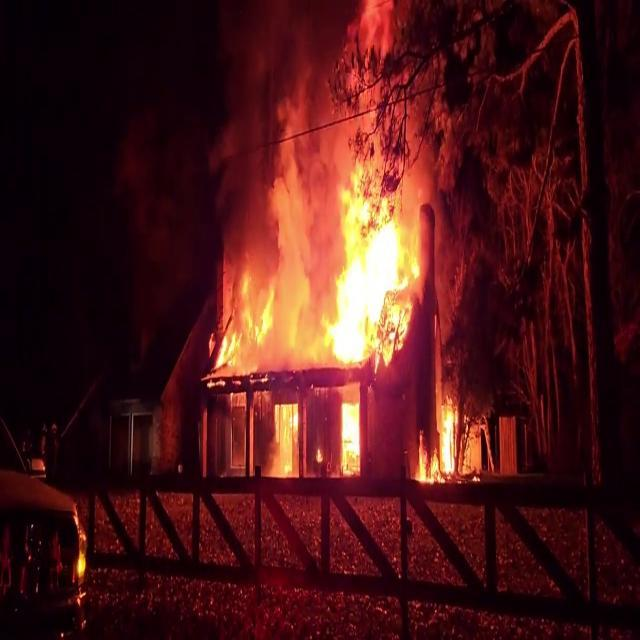Fire: (214, 90, 419, 374), (413, 384, 464, 489), (270, 398, 302, 472), (335, 394, 363, 470)
Smoke: (82, 0, 310, 324)
